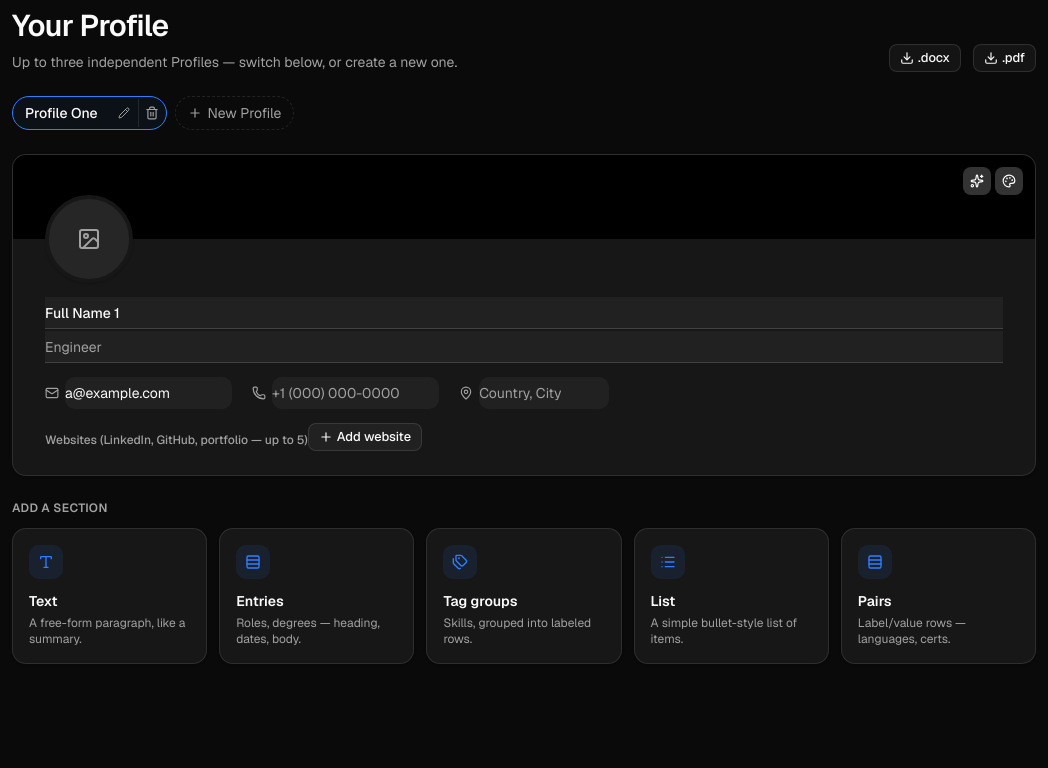
Test case: ProfileWorkspace › lets the user rename a Profile from its chip
Click the button named "Rename Profile One" at x=124, y=113, box [110,99,138,127]
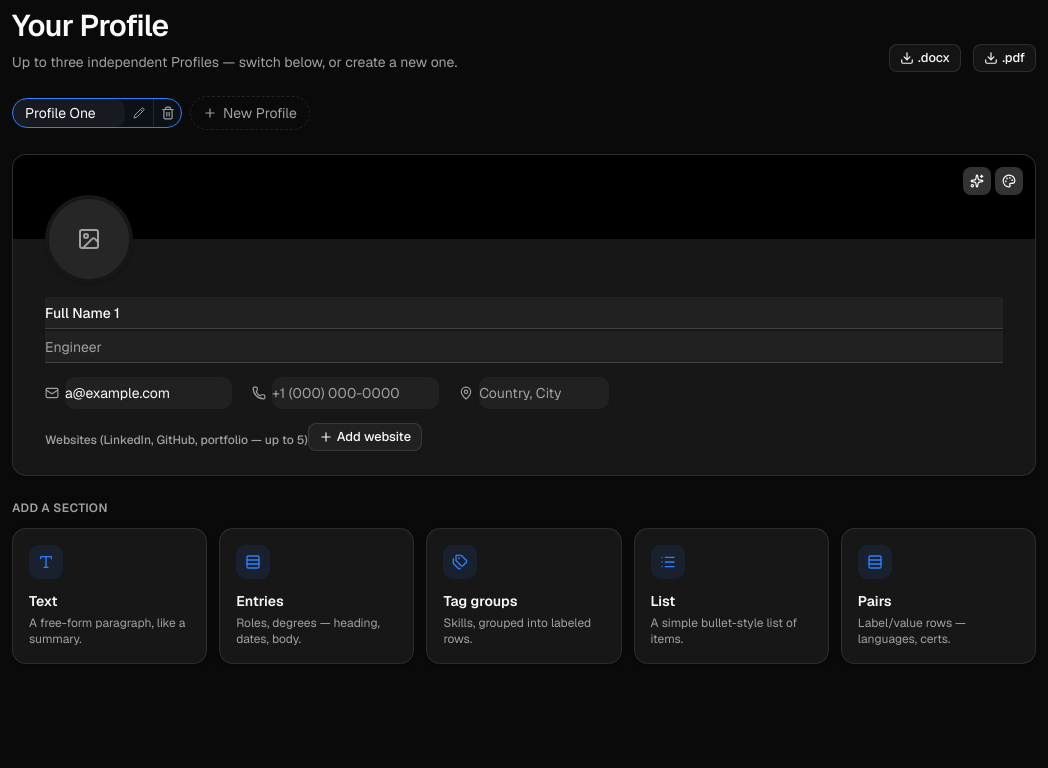
Replace the text in the field named "Profile name" with "Renamed Profile" at x=69, y=113, box [13,99,125,127]
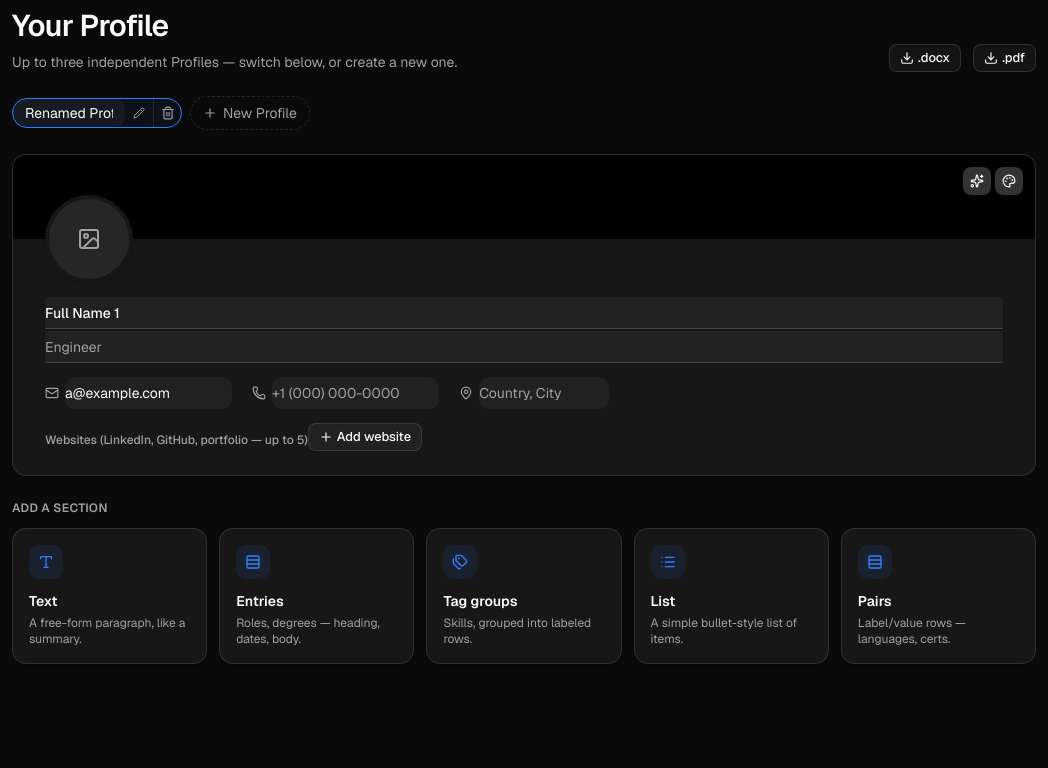
Press Enter in the field named "Profile name", box [13,99,125,127]
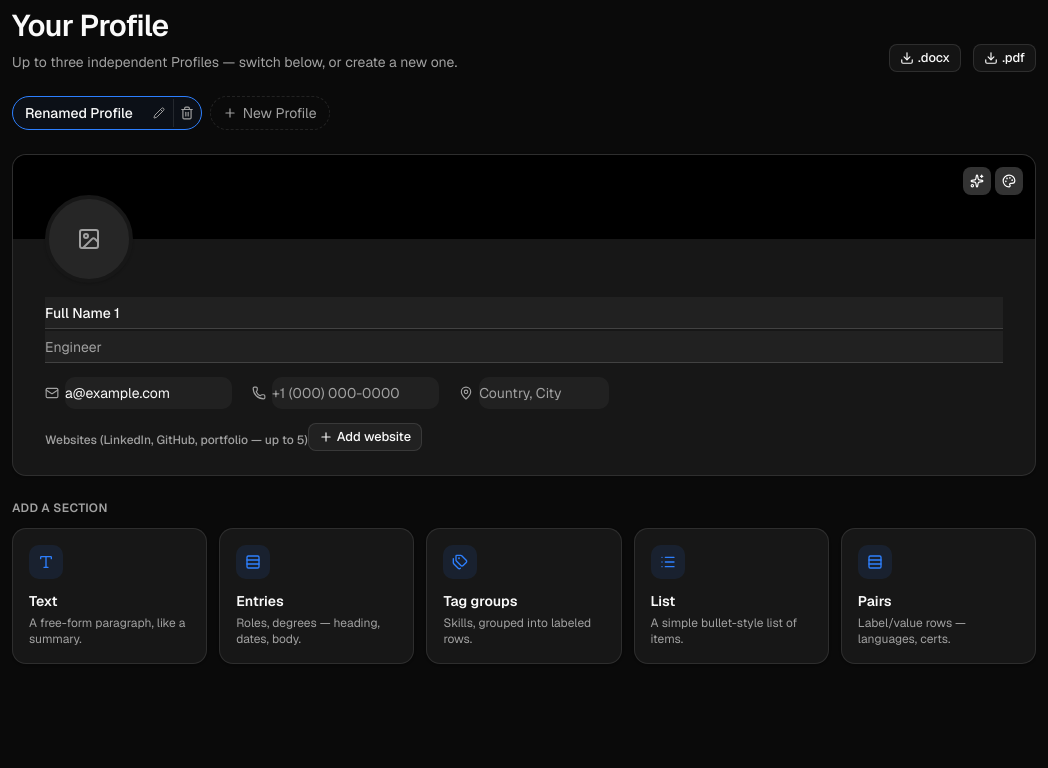
Expected: the button "Renamed Profile" is shown, [13,97,145,129]
